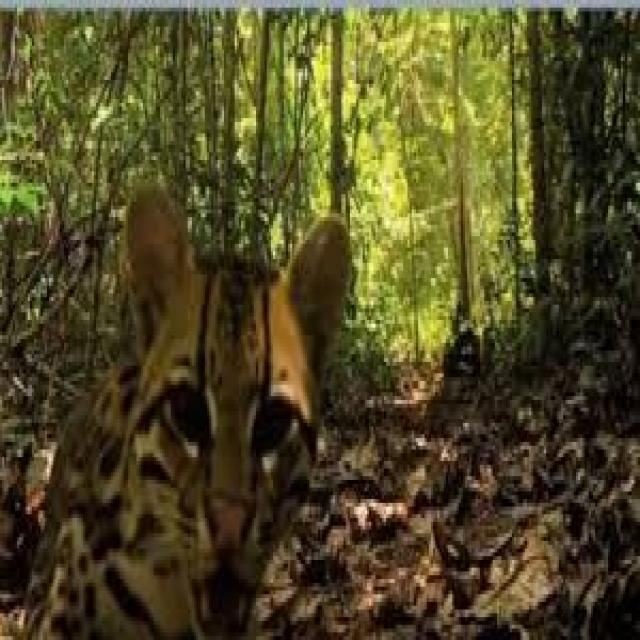Jaguar: (38, 190, 367, 625)
